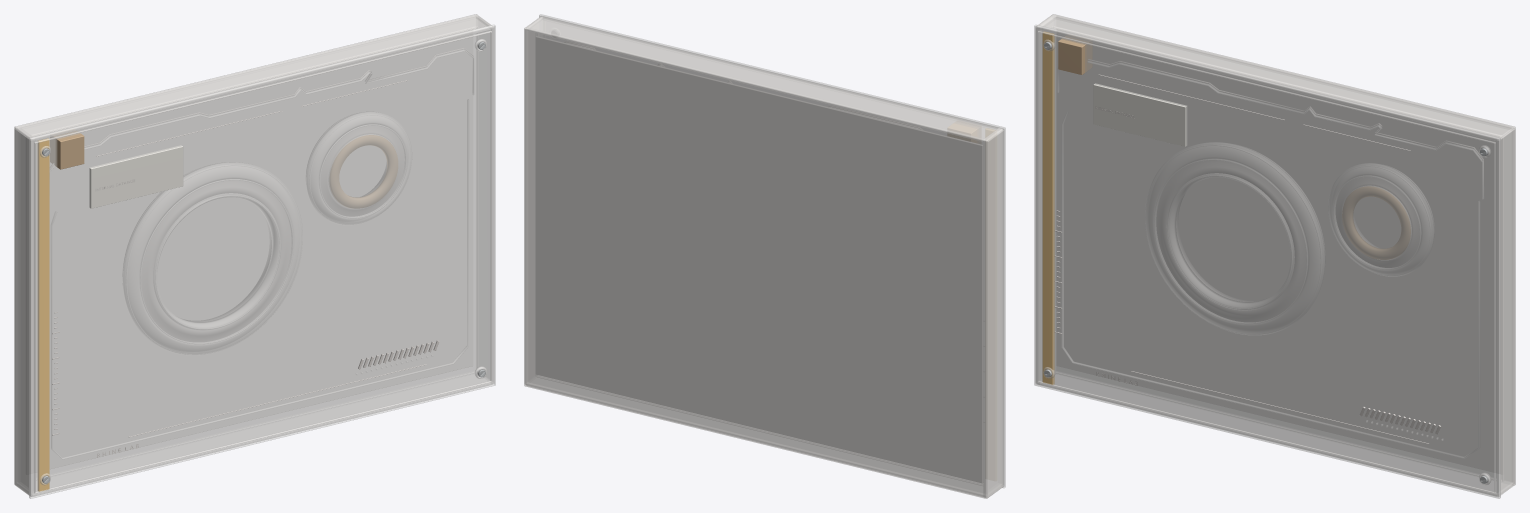
File: archive-assembly.glb
3 views of the same model, side by side, from view 1: azimuth 30°, elevation 25°; view 2: azimuth 150°, elevation 25°; view 3: azimuth 330°, elevation 25° (orthographic).
Parts seen in each view (by area): view 1: cover__Frosted_Polymer.001, substrate__Optical_Diffuser.001, carrier__Ivory_Edges.001, optical-lenses__Optical_Edges.001, optical-core__Subsurface_Optics.001, cover__Amber_Lightguide.001, cover__Printed_Label.001, cover__Optical_Edges.001, cover__Internal_Ceramic.001, carrier__Optical_Edges.001, optical-core__Champagne_Index.001, cover__Champagne_Index.001; view 2: carrier__Ivory_Edges.001, substrate__Optical_Diffuser.001, cover__Frosted_Polymer.001, carrier__Optical_Edges.001; view 3: cover__Frosted_Polymer.001, substrate__Optical_Diffuser.001, carrier__Ivory_Edges.001, optical-lenses__Optical_Edges.001, optical-core__Subsurface_Optics.001, cover__Amber_Lightguide.001, cover__Printed_Label.001, cover__Optical_Edges.001, cover__Internal_Ceramic.001, carrier__Optical_Edges.001, optical-core__Champagne_Index.001, cover__Champagne_Index.001.
Part boxes in pixels (x1,y1,x2,y2): cover__Frosted_Polymer.001: [29, 24, 495, 498]; substrate__Optical_Diffuser.001: [33, 29, 472, 472]; carrier__Ivory_Edges.001: [14, 14, 493, 496]; optical-lenses__Optical_Edges.001: [123, 112, 411, 354]; optical-core__Subsurface_Optics.001: [122, 114, 404, 342]; cover__Amber_Lightguide.001: [37, 138, 49, 491]; cover__Printed_Label.001: [89, 145, 183, 208]; cover__Optical_Edges.001: [50, 49, 474, 459]; cover__Internal_Ceramic.001: [50, 48, 473, 457]; carrier__Optical_Edges.001: [32, 26, 477, 479]; optical-core__Champagne_Index.001: [329, 135, 397, 208]; cover__Champagne_Index.001: [50, 131, 84, 169]; carrier__Ivory_Edges.001: [524, 16, 1003, 498]; substrate__Optical_Diffuser.001: [536, 36, 982, 482]; cover__Frosted_Polymer.001: [539, 14, 1005, 488]; carrier__Optical_Edges.001: [536, 33, 982, 485]; cover__Frosted_Polymer.001: [1034, 24, 1500, 498]; substrate__Optical_Diffuser.001: [1057, 29, 1501, 474]; carrier__Ivory_Edges.001: [1036, 14, 1515, 496]; optical-lenses__Optical_Edges.001: [1145, 142, 1433, 334]; optical-core__Subsurface_Optics.001: [1156, 147, 1434, 322]; cover__Amber_Lightguide.001: [1042, 31, 1054, 384]; cover__Printed_Label.001: [1093, 83, 1187, 146]; cover__Optical_Edges.001: [1057, 61, 1483, 458]; cover__Internal_Ceramic.001: [1054, 59, 1483, 443]; carrier__Optical_Edges.001: [1052, 26, 1503, 481]; optical-core__Champagne_Index.001: [1342, 186, 1410, 259]; cover__Champagne_Index.001: [1058, 36, 1092, 74].
Size of the model in its own units: 5 by 3.7 by 0.392.
